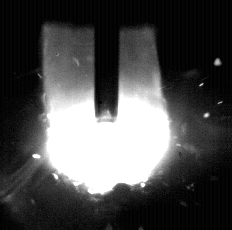arame: (95, 0, 120, 123)
poca: (46, 0, 171, 230)
